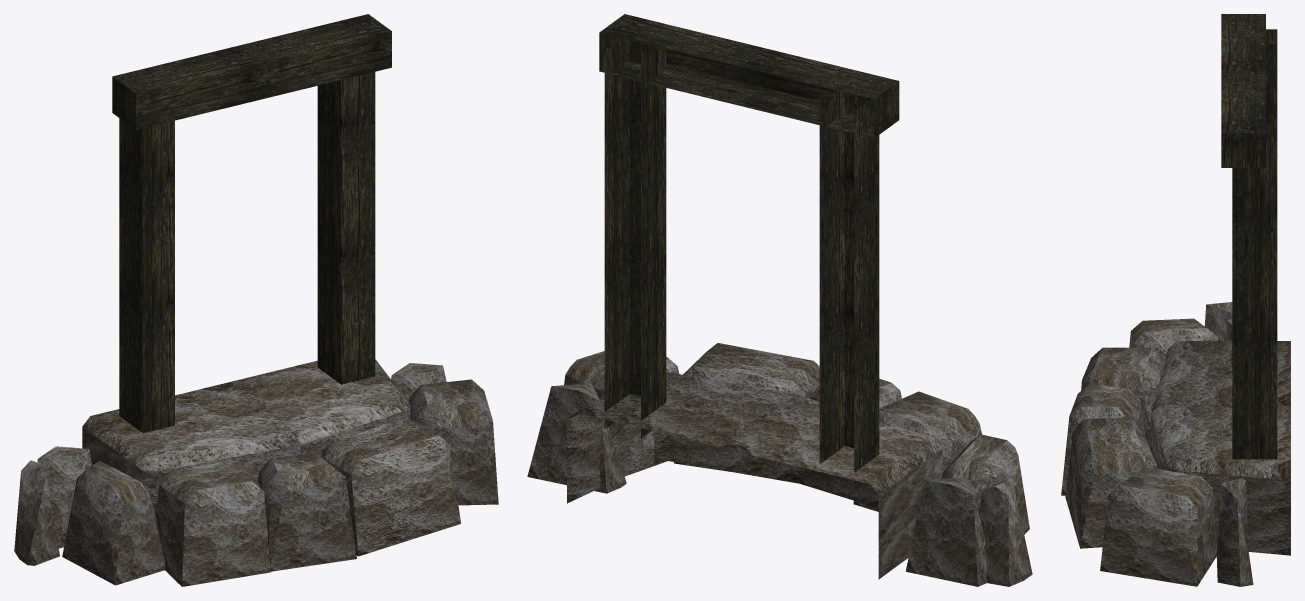
The model's file is ex_nord_doorf_01.obj.
The picture shows the model from 3 angles, left to right: view 1: azimuth 30°, elevation 25°; view 2: azimuth 150°, elevation 25°; view 3: azimuth 270°, elevation 25°; orthographic projection. The views are drawn at different scales.
Visible parts, largest first — view 1: nifid_6-matrix_Tri_Ex_nord_doorf_01_1-lib, nifid_1-matrix_Tri_Ex_nord_doorf_01_0-lib; view 2: nifid_1-matrix_Tri_Ex_nord_doorf_01_0-lib, nifid_6-matrix_Tri_Ex_nord_doorf_01_1-lib; view 3: nifid_6-matrix_Tri_Ex_nord_doorf_01_1-lib, nifid_1-matrix_Tri_Ex_nord_doorf_01_0-lib.
Part boxes in pixels (x1=…): nifid_6-matrix_Tri_Ex_nord_doorf_01_1-lib: x1=14, y1=359, x2=498, y2=586; nifid_1-matrix_Tri_Ex_nord_doorf_01_0-lib: x1=112, y1=14, x2=391, y2=432; nifid_1-matrix_Tri_Ex_nord_doorf_01_0-lib: x1=599, y1=14, x2=899, y2=490; nifid_6-matrix_Tri_Ex_nord_doorf_01_1-lib: x1=527, y1=343, x2=1032, y2=586; nifid_6-matrix_Tri_Ex_nord_doorf_01_1-lib: x1=1061, y1=302, x2=1290, y2=586; nifid_1-matrix_Tri_Ex_nord_doorf_01_0-lib: x1=1221, y1=14, x2=1277, y2=459.
Bounding box in the file's own units: 6.94 × 6.44 × 3.21.
